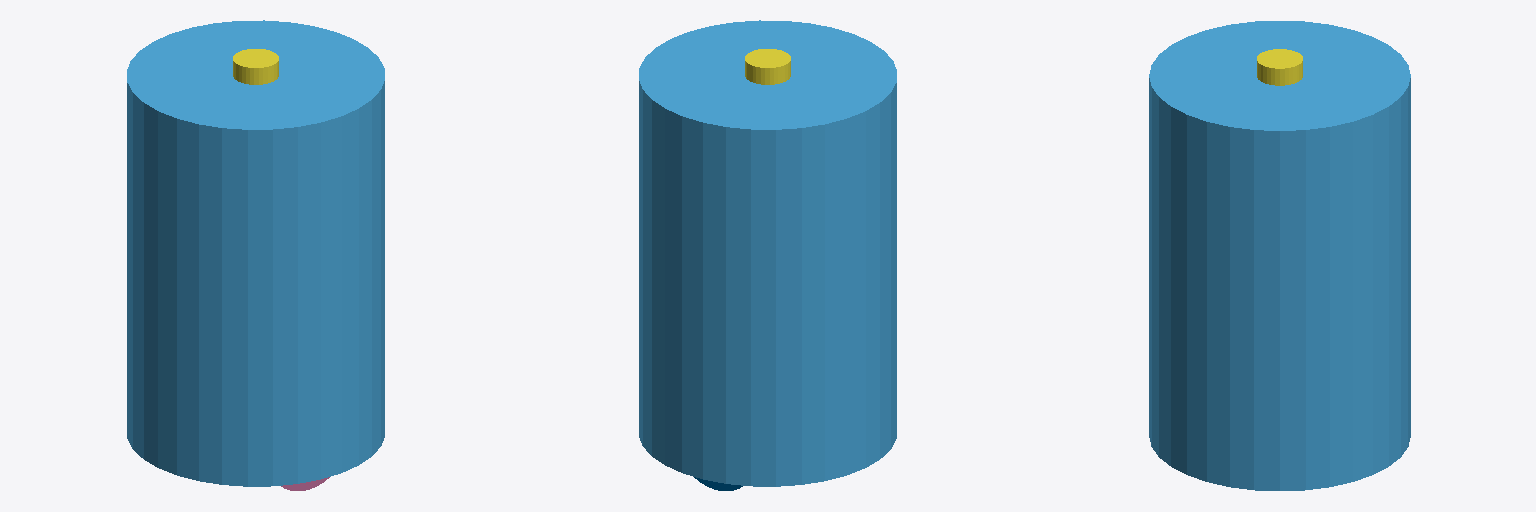
URDF robot description (ServiceRoboter):
?<?xml version="1.0" encoding="utf-8"?>
<robot name="ServiceRoboter">
  <link name="base_link">
    <inertial>
      <origin rpy="0 0 0" xyz="0 0 0" />
      <mass value="1" />
      <inertia ixx="1" ixy="0" ixz="0" iyy="1" iyz="0" izz="1" />
    </inertial>
  </link>
  <link name="barrel">
    <inertial>
      <origin rpy="0 0 0" xyz="0 0 0.475" />
      <mass value="1" />
      <inertia ixx="0.079488530755043" ixy="0" ixz="0" iyy="0.0794885382056236" iyz="0" izz="0.0385604798793793" />
    </inertial>
    <visual>
      <origin xyz="0 0 0.475" />
      <geometry>
        <cylinder length="0.85" radius="0.28" />
      </geometry>
    </visual>
    <collision>
      <origin xyz="0 0 0.475" />
      <geometry>
        <cylinder length="0.85" radius="0.28" />
      </geometry>
    </collision>
  </link>
  <link name="wheel_base">
    <inertial>
      <origin rpy="0 0 0" xyz="0 0 0" />
      <mass value="1" />
      <inertia ixx="1" ixy="0" ixz="0" iyy="1" iyz="0" izz="1" />
    </inertial>
  </link>
  <link name="wheel_right_axis">
    <inertial>
      <origin rpy="0 0 0" xyz="0 0 0" />
      <mass value="1" />
      <inertia ixx="1" ixy="0" ixz="0" iyy="1" iyz="0" izz="1" />
    </inertial>
  </link>
  <link name="wheel_right">
    <inertial>
      <origin rpy="0 0 0" xyz="0 0 0" />
      <mass value="1" />
      <inertia ixx="0.00259254919365048" ixy="0" ixz="0" iyy="0.00491843000054359" iyz="0" izz="0.00259254802949727" />
    </inertial>
    <visual>
      <origin rpy="-1.570796 0 0" />
      <geometry>
        <cylinder length="0.04" radius="0.1" />
      </geometry>
    </visual>
    <collision>
      <origin rpy="-1.570796 0 0" />
      <geometry>
        <cylinder length="0.04" radius="0.1" />
      </geometry>
    </collision>
  </link>
  <link name="wheel_left_axis">
    <inertial>
      <origin rpy="0 0 0" xyz="0 0 0" />
      <mass value="1" />
      <inertia ixx="1" ixy="0" ixz="0" iyy="1" iyz="0" izz="1" />
    </inertial>
  </link>
  <link name="wheel_left">
    <inertial>
      <origin rpy="0 0 0" xyz="0 0 0" />
      <mass value="1" />
      <inertia ixx="0.00259254919365048" ixy="0" ixz="0" iyy="0.00491843000054359" iyz="0" izz="0.00259254802949727" />
    </inertial>
    <visual>
      <origin rpy="-1.570796 0 0" />
      <geometry>
        <cylinder length="0.04" radius="0.1" />
      </geometry>
    </visual>
    <collision>
      <origin rpy="-1.570796 0 0" />
      <geometry>
        <cylinder length="0.04" radius="0.1" />
      </geometry>
    </collision>
  </link>
  <link name="wheel_front_axis">
    <inertial>
      <origin rpy="0 0 0" xyz="0 0 0" />
      <mass value="1" />
      <inertia ixx="1" ixy="0" ixz="0" iyy="1" iyz="0" izz="1" />
    </inertial>
  </link>
  <link name="wheel_front">
    <inertial>
      <origin rpy="0 0 0" xyz="0 4E-06 3.6E-05" />
      <mass value="1" />
      <inertia ixx="0.00369529682211578" ixy="0" ixz="0" iyy="0.00369553361088037" iyz="0" izz="0.00341923860833049" />
    </inertial>
    <visual>
      <geometry>
        <sphere radius="0.05" />
      </geometry>
    </visual>
    <collision>
      <geometry>
        <sphere radius="0.05" />
      </geometry>
    </collision>
  </link>
  <link name="wheel_back_axis">
    <inertial>
      <origin rpy="0 0 0" xyz="0 0 0" />
      <mass value="1" />
      <inertia ixx="1" ixy="0" ixz="0" iyy="1" iyz="0" izz="1" />
    </inertial>
  </link>
  <link name="wheel_back">
    <inertial>
      <origin rpy="0 0 0" xyz="0 4E-06 3.6E-05" />
      <mass value="1" />
      <inertia ixx="0.00369529682211578" ixy="0" ixz="0" iyy="0.00369553361088037" iyz="0" izz="0.00341923860833049" />
    </inertial>
    <visual>
      <geometry>
        <sphere radius="0.05" />
      </geometry>
    </visual>
    <collision>
      <geometry>
        <sphere radius="0.05" />
      </geometry>
    </collision>
  </link>
  <link name="lidar">
    <inertial>
      <origin rpy="0 0 0" xyz="0 0 0" />
      <mass value="1" />
      <inertia ixx="1" ixy="0" ixz="0" iyy="1" iyz="0" izz="1" />
    </inertial>
    <visual>
      <origin xyz="0 0 0.02" />
      <geometry>
        <cylinder length="0.04" radius="0.05" />
      </geometry>
    </visual>
  </link>
  <joint name="base_link_barrel_joint" type="fixed">
    <parent link="base_link" />
    <child link="barrel" />
  </joint>
  <joint name="barrel_wheel_base_joint" type="fixed">
    <origin xyz="0 0 0.1" />
    <parent link="barrel" />
    <child link="wheel_base" />
  </joint>
  <joint name="wheel_base_wheel_right_axis_joint" type="fixed">
    <origin xyz="0 0.2 0" />
    <parent link="wheel_base" />
    <child link="wheel_right_axis" />
  </joint>
  <joint name="wheel_right_axis_wheel_right_joint" type="revolute">
    <parent link="wheel_right_axis" />
    <child link="wheel_right" />
    <dynamics damping="0.0500000007450581" friction="0.0500000007450581" />
    <limit lower="0" upper="0" effort="3.40282346638529E+38" velocity="7" />
  </joint>
  <joint name="wheel_base_wheel_left_axis_joint" type="fixed">
    <origin xyz="0 -0.2 0" />
    <parent link="wheel_base" />
    <child link="wheel_left_axis" />
  </joint>
  <joint name="wheel_left_axis_wheel_left_joint" type="revolute">
    <parent link="wheel_left_axis" />
    <child link="wheel_left" />
    <dynamics damping="0.0500000007450581" friction="0.0500000007450581" />
    <limit lower="0" upper="0" effort="3.40282346638529E+38" velocity="7" />
  </joint>
  <joint name="wheel_base_wheel_front_axis_joint" type="fixed">
    <origin xyz="0.2 0 0.01" />
    <parent link="wheel_base" />
    <child link="wheel_front_axis" />
  </joint>
  <joint name="wheel_front_axis_wheel_front_joint" type="fixed">
    <parent link="wheel_front_axis" />
    <child link="wheel_front" />
  </joint>
  <joint name="wheel_base_wheel_back_axis_joint" type="fixed">
    <origin xyz="0 0 0.01" />
    <parent link="wheel_base" />
    <child link="wheel_back_axis" />
  </joint>
  <joint name="wheel_back_axis_wheel_back_joint" type="fixed">
    <origin xyz="-0.2 0 0" />
    <parent link="wheel_back_axis" />
    <child link="wheel_back" />
  </joint>
  <joint name="barrel_lidar_joint" type="fixed">
    <origin xyz="0 0 0.9" />
    <parent link="barrel" />
    <child link="lidar" />
  </joint>
</robot>

--- Render facts (derived) ---
The picture shows the robot from 3 angles, left to right: view 1: azimuth 30°, elevation 25°; view 2: azimuth 150°, elevation 25°; view 3: azimuth 270°, elevation 25°; orthographic projection.
Robot: ServiceRoboter — 12 links, 11 joints (2 revolute, 9 fixed); root link base_link; default pose: every joint at zero.
Visible links, largest first — view 1: barrel, lidar; view 2: barrel, lidar; view 3: barrel, lidar.
Link boxes in pixels (x1,y1,x2,y2): barrel: (127, 20, 384, 486); lidar: (233, 49, 278, 84); barrel: (639, 20, 896, 486); lidar: (745, 49, 790, 84); barrel: (1149, 21, 1410, 490); lidar: (1257, 49, 1302, 85).
Size in the robot's own frame: 0.56 by 0.56 by 0.94 metres.
Geometry: primitives only (box / cylinder / sphere), no mesh files.